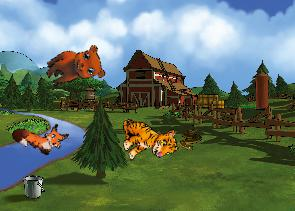bear: (40, 37, 110, 100)
fox: (9, 108, 71, 162)
tiger: (117, 110, 179, 165)
